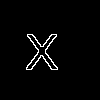X: (25, 24, 58, 70)
